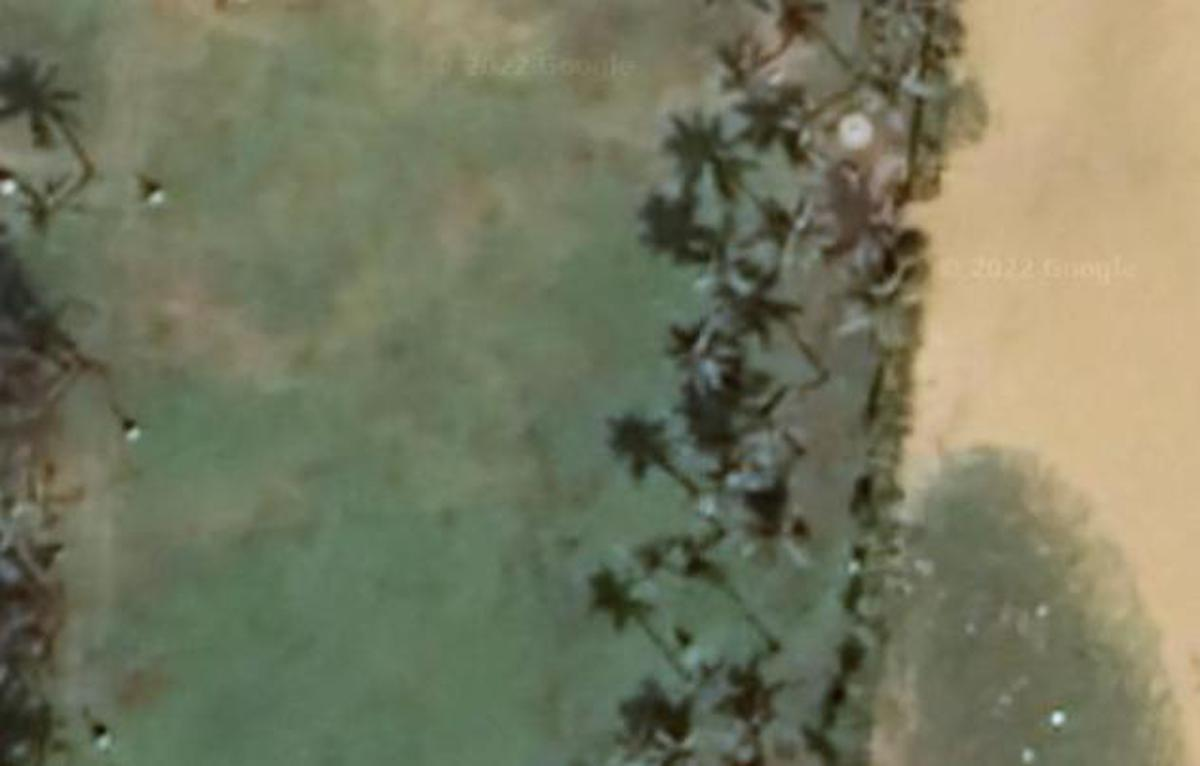coconut: (831, 231, 924, 319), (705, 446, 791, 528), (654, 313, 737, 391), (581, 551, 659, 634), (716, 252, 794, 330), (715, 378, 791, 458), (709, 34, 787, 106), (739, 501, 813, 574), (724, 686, 794, 762), (661, 524, 732, 598), (857, 0, 945, 55), (777, 91, 850, 157), (774, 193, 840, 266), (11, 178, 83, 243), (629, 718, 705, 766)
